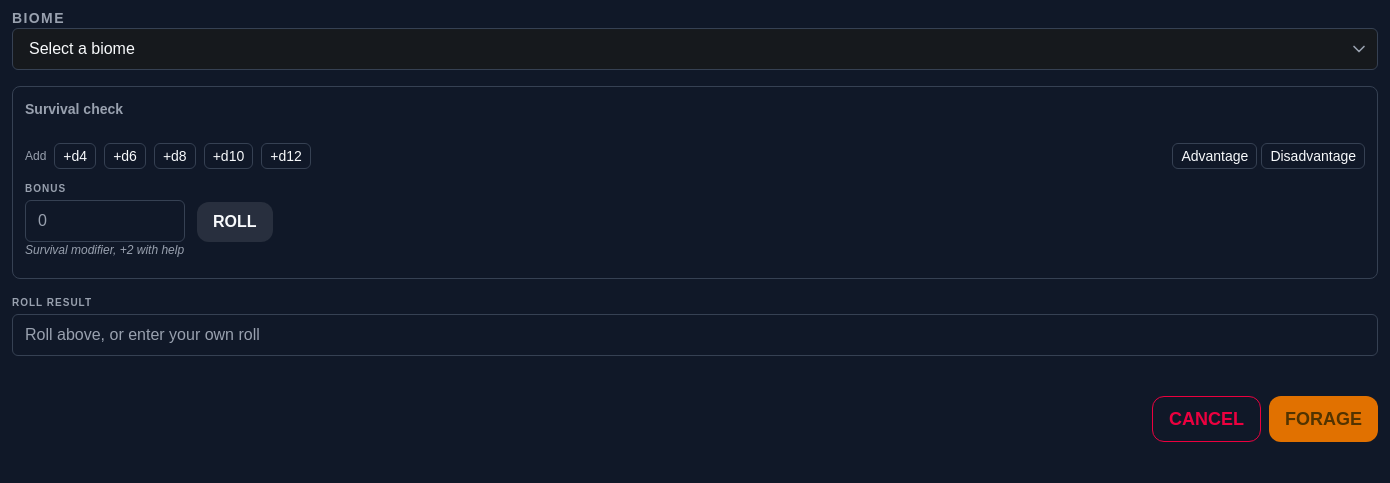
Test case: components/modals/go-foraging-modal/forage-biome › should fill the roll result from the dice
What coordinates should you click on to do the following:
click the button "Roll"
I would click on:
 (235, 222)
Its box is [197, 202, 272, 242].
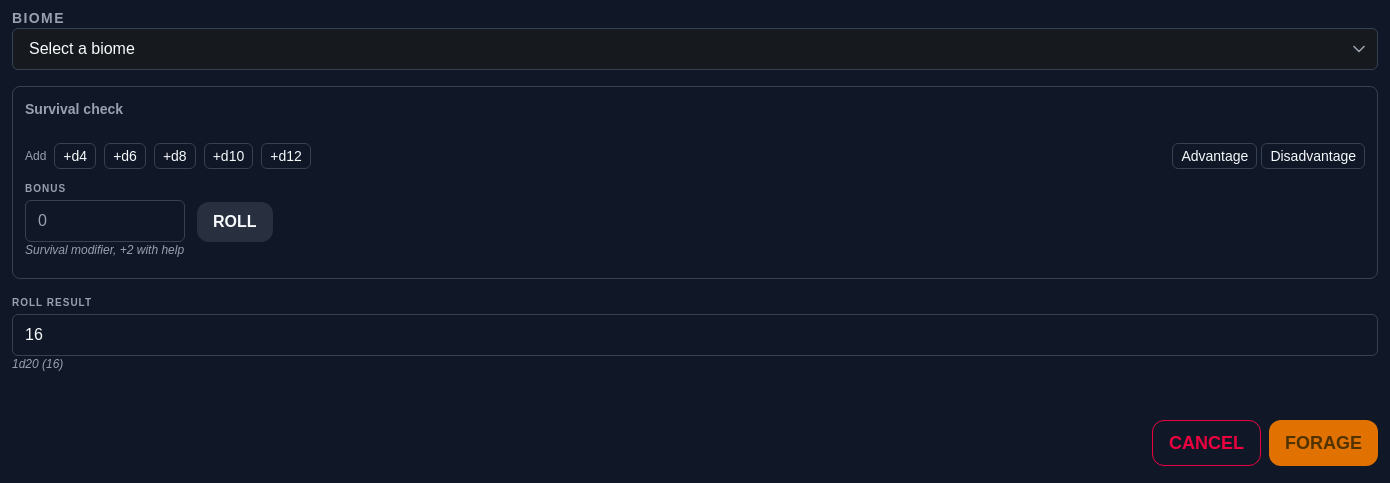
Now the number field labelled "Roll result" holds "16", box [12, 314, 1378, 356]
Now the text "1d20 (16)" is shown, box [12, 357, 63, 371]
